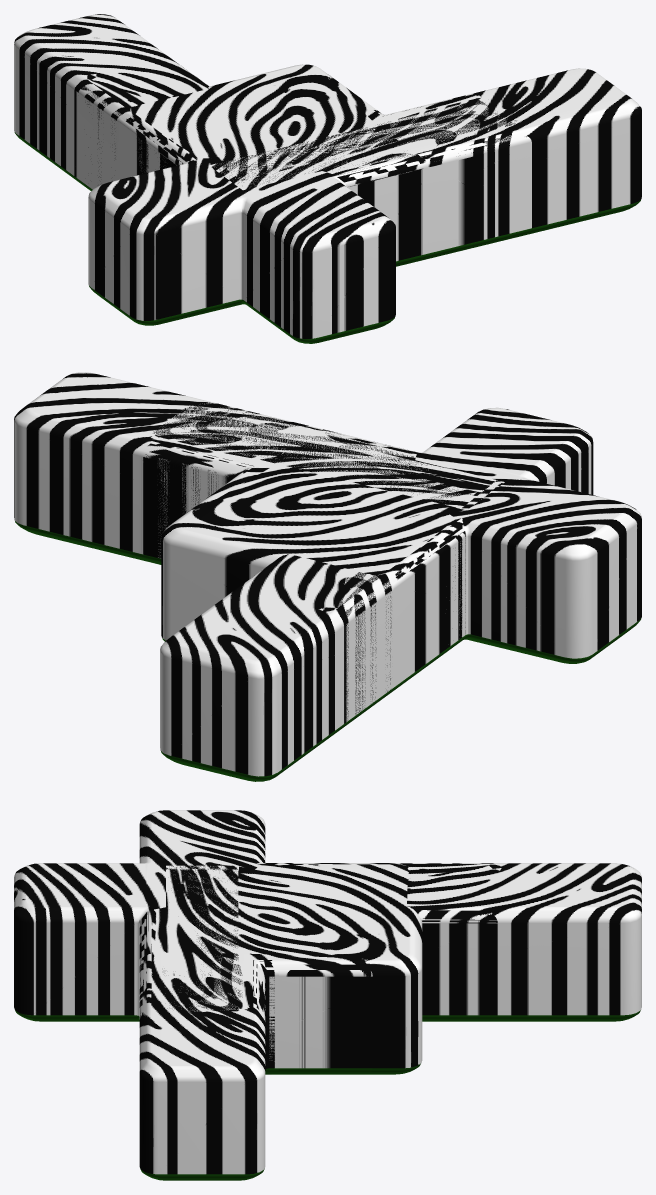
Rendered from DarkeGreen.fbx.
3 renders of one model, top to bottom at view 1: azimuth 30°, elevation 25°; view 2: azimuth 150°, elevation 25°; view 3: azimuth 270°, elevation 25°, orthographic. The views are drawn at different scales.
Parts seen in each view (by area): view 1: Block_6, Block_4, Block_1, Block_9, Block_3, Block_5, Block_7, Block_8, Block_2; view 2: Block_6, Block_9, Block_4, Block_1, Block_3, Block_8, Block_7, Block_5; view 3: Block_4, Block_1, Block_6, Block_9, Block_7, Block_5, Block_3, Block_8.
Part boxes in pixels (left/top/right/bottom): Block_6: left=88, top=121, right=427, bottom=343; Block_4: left=209, top=68, right=641, bottom=264; Block_1: left=122, top=64, right=398, bottom=180; Block_9: left=14, top=14, right=208, bottom=190; Block_3: left=209, top=94, right=531, bottom=264; Block_5: left=227, top=77, right=528, bottom=264; Block_7: left=74, top=67, right=425, bottom=266; Block_8: left=118, top=106, right=382, bottom=179; Block_2: left=344, top=162, right=430, bottom=265; Block_6: left=323, top=407, right=641, bottom=675; Block_9: left=160, top=525, right=463, bottom=781; Block_4: left=14, top=372, right=504, bottom=561; Block_1: left=161, top=444, right=476, bottom=641; Block_3: left=139, top=401, right=502, bottom=564; Block_8: left=240, top=466, right=465, bottom=690; Block_7: left=252, top=532, right=465, bottom=723; Block_5: left=139, top=406, right=500, bottom=564; Block_4: left=139, top=866, right=265, bottom=1180; Block_1: left=188, top=864, right=422, bottom=1074; Block_6: left=14, top=810, right=370, bottom=1021; Block_9: left=399, top=863, right=641, bottom=1021; Block_7: left=141, top=864, right=501, bottom=1021; Block_5: left=143, top=866, right=372, bottom=1074; Block_3: left=139, top=865, right=265, bottom=1019; Block_8: left=253, top=863, right=408, bottom=1074.
Size of the model in its own units: 5 by 1 by 5.
Materials: 2 (2 with a texture image).
